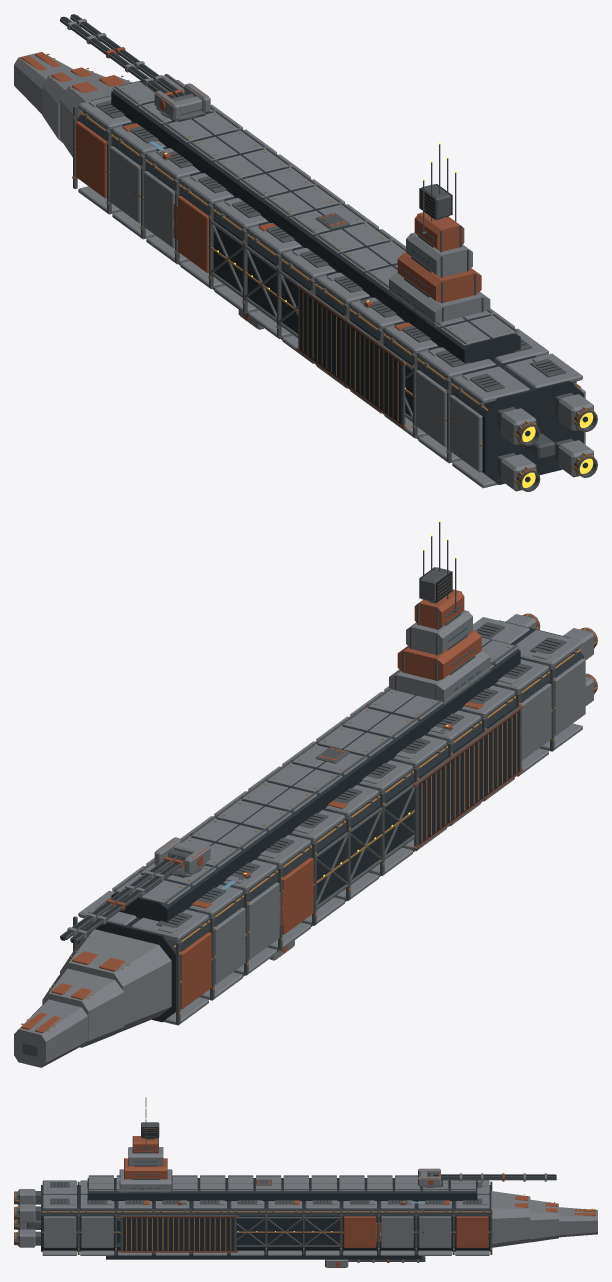
Rendered from mars_battleship.glb.
3 views of the same model, one above another, from view 1: azimuth 30°, elevation 25°; view 2: azimuth 150°, elevation 25°; view 3: azimuth 270°, elevation 25° (orthographic). The views are drawn at different scales.
Parts seen in each view (by area): view 1: FleetHull, mesh_recoil_gun_1, mesh_turret_gun_1; view 2: FleetHull, mesh_recoil_gun_1, mesh_turret_gun_1; view 3: FleetHull, mesh_recoil_gun_1, mesh_turret_gun_1, mesh_recoil_gun_3.
Boxes of the visible parts, x1,y1,x2,y2 form: FleetHull: (14,52,597,491); mesh_recoil_gun_1: (60,14,194,101); mesh_turret_gun_1: (154,83,210,121); FleetHull: (14,520,597,1067); mesh_recoil_gun_1: (60,849,190,943); mesh_turret_gun_1: (154,837,210,877); FleetHull: (14,1096,597,1259); mesh_recoil_gun_1: (428,1172,556,1181); mesh_turret_gun_1: (418,1168,441,1187); mesh_recoil_gun_3: (348,1256,425,1262).
Bounding box in the file's own units: 139 × 338 × 1070.
